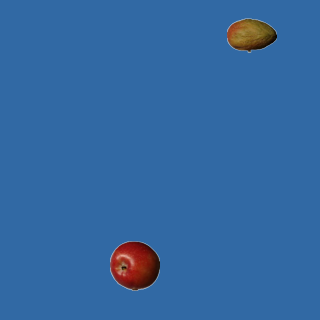Apple Braeburn: (109, 240, 159, 290)
Papaya: (226, 10, 276, 60)
